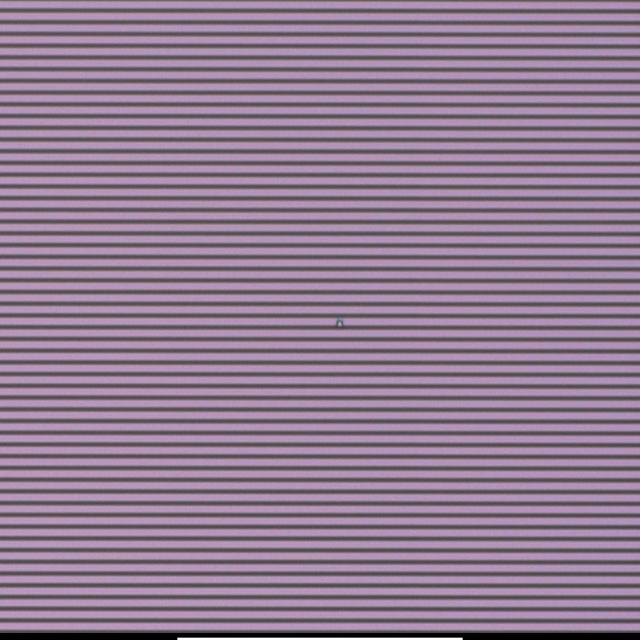nonvisual: (333, 313, 348, 331)
